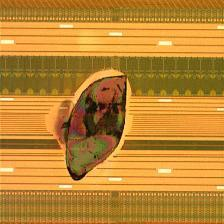PARTICLE: (44, 68, 136, 184)
